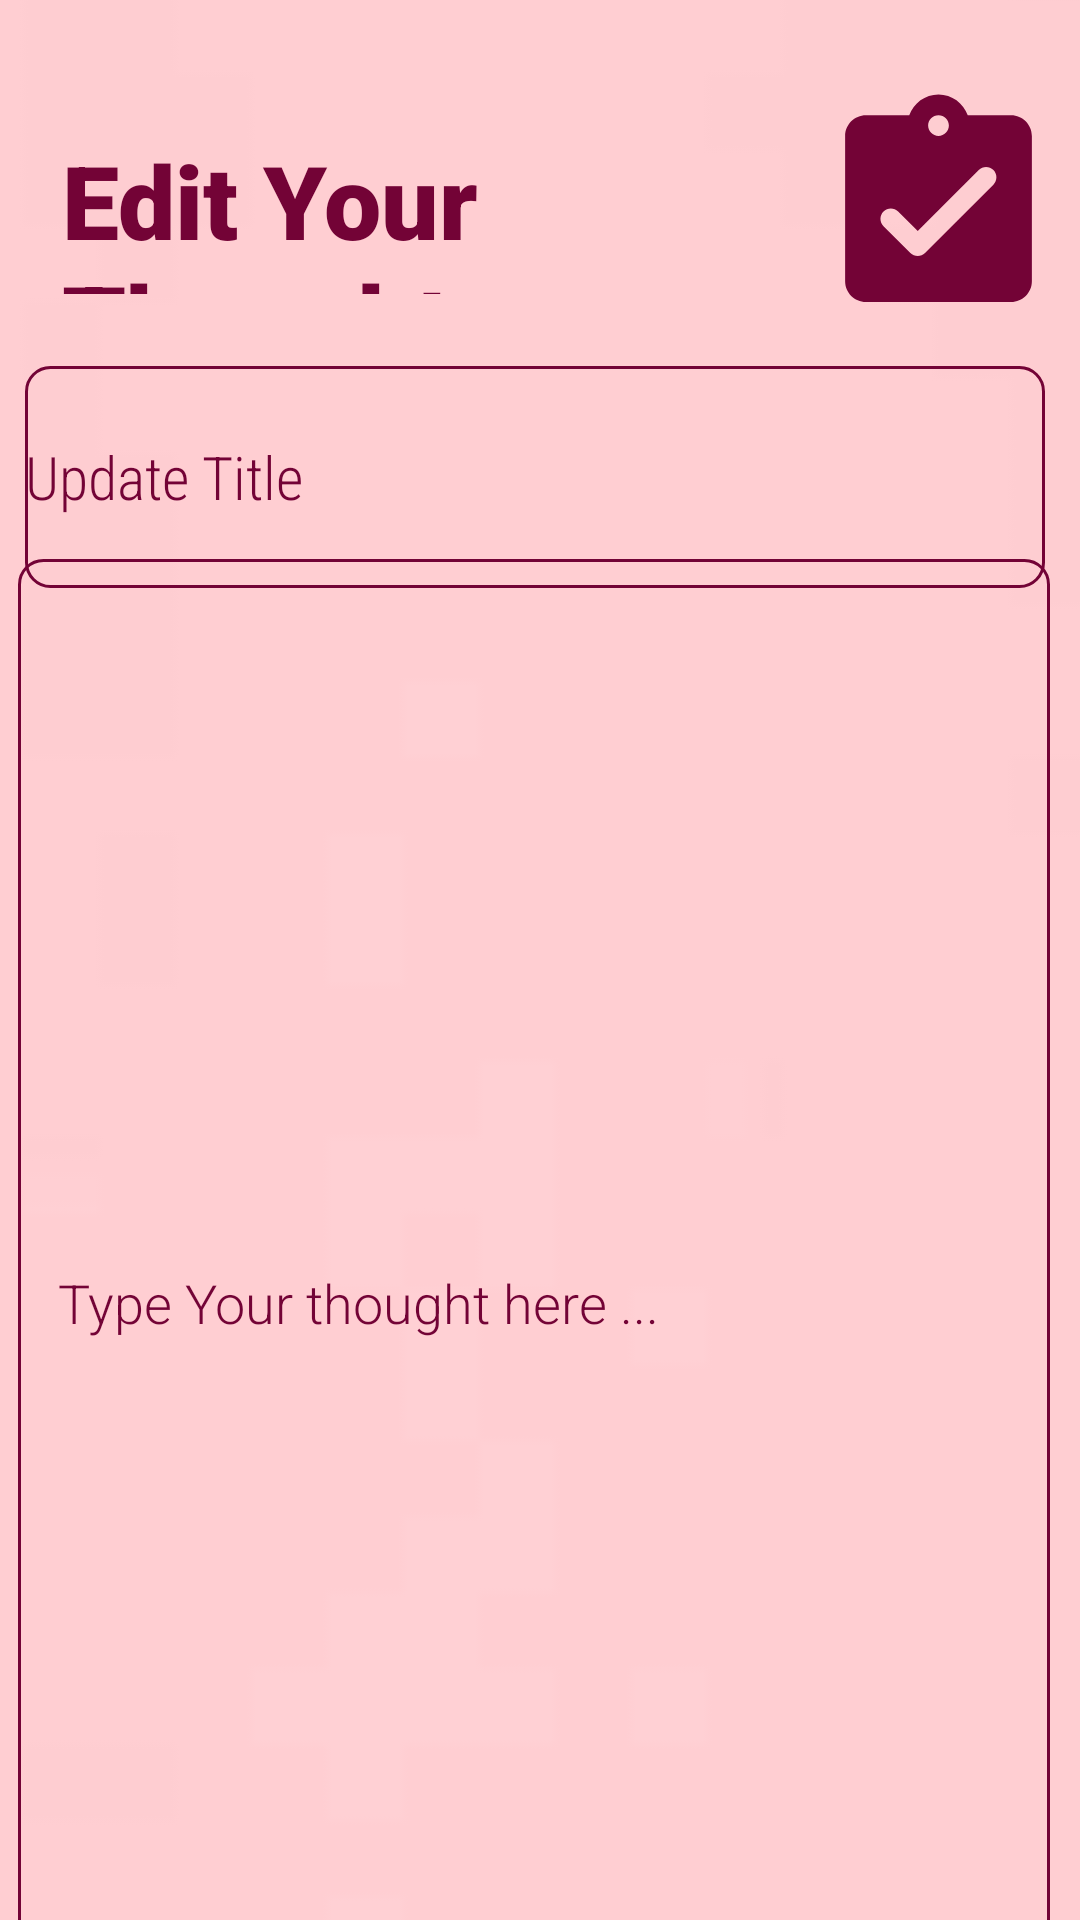

Locate icon controls on the screen. Image size 1080 x 1920, boxes as (x1, y1, x2, y2).
assignment turned in: (845, 94, 1032, 302)
